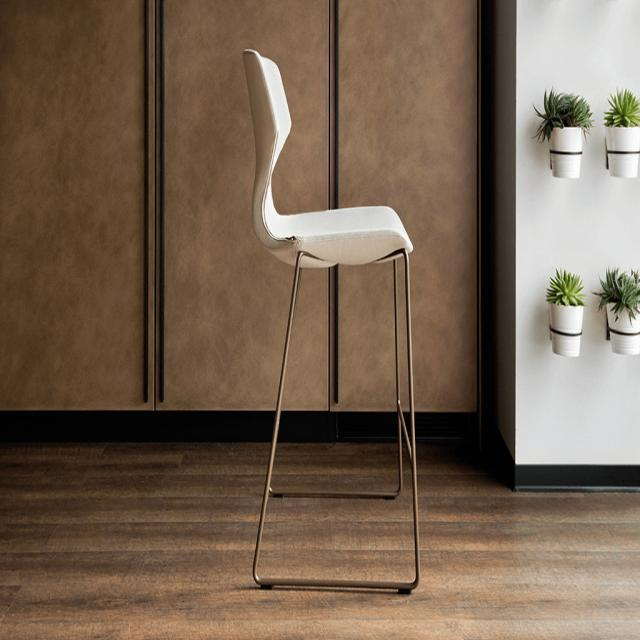chair: (240, 43, 422, 603), (237, 41, 425, 285)
